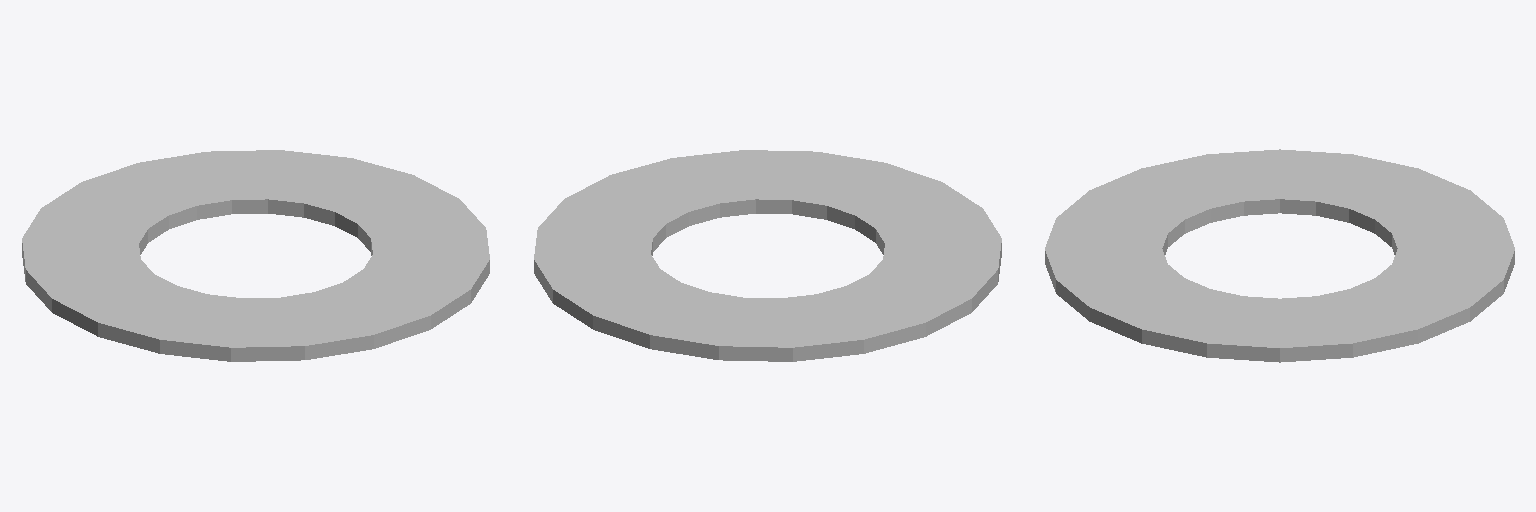
The model's file is free_star.obj.
The picture shows the model from 3 angles: view 1: azimuth 30°, elevation 25°; view 2: azimuth 150°, elevation 25°; view 3: azimuth 270°, elevation 25°; orthographic projection.
Parts seen in each view (by area): view 1: pPipe1; view 2: pPipe1; view 3: pPipe1.
Boxes of the visible parts, x1,y1,x2,y2 form: pPipe1: [22, 150, 489, 361]; pPipe1: [534, 150, 1001, 361]; pPipe1: [1045, 149, 1514, 362].
Size of the model in its own units: 0.3 by 0.01 by 0.3.